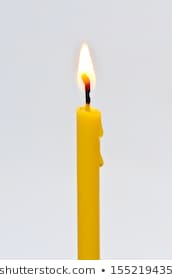Fire: (77, 41, 98, 93)
